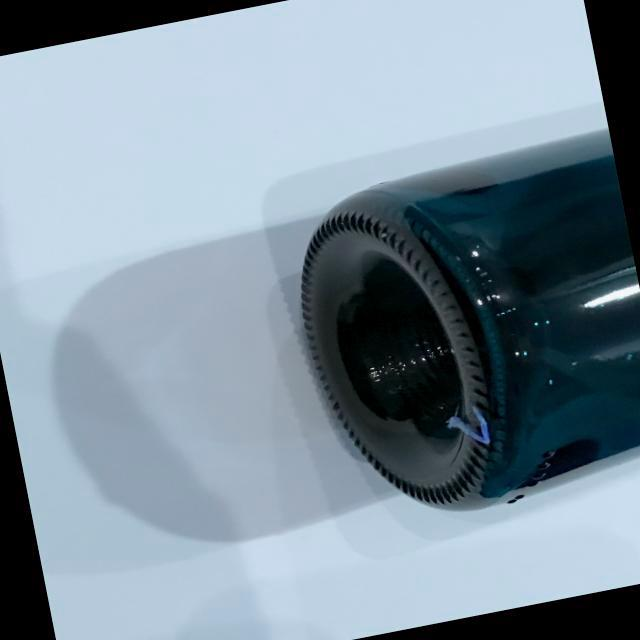glass: (257, 117, 640, 546)
